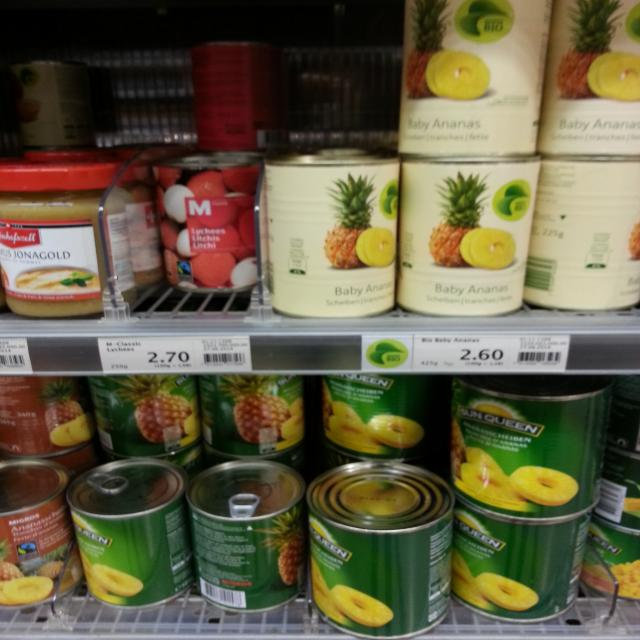Canned: (302, 454, 452, 638), (442, 370, 612, 519), (258, 146, 401, 315), (404, 0, 554, 161), (396, 155, 536, 316), (62, 454, 198, 612), (0, 158, 129, 322), (444, 496, 593, 626), (145, 148, 270, 300), (522, 155, 640, 312), (193, 454, 305, 615), (535, 0, 640, 160), (0, 457, 86, 615), (190, 39, 275, 147)
